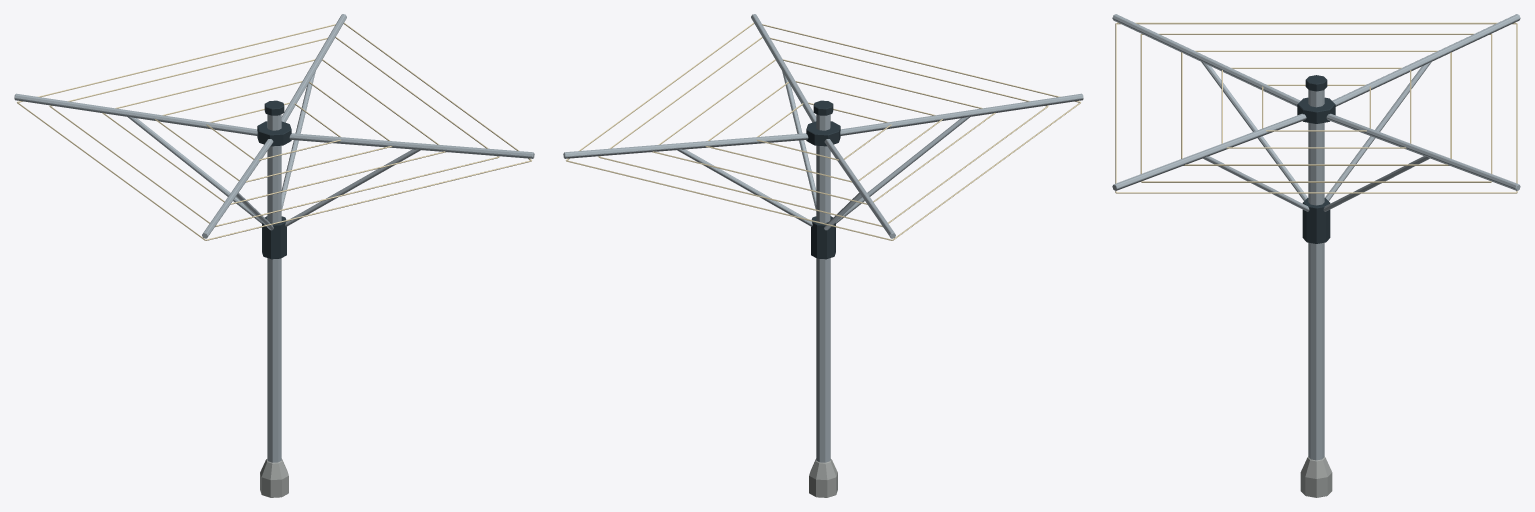
The model's file is b11_rotary_backyard_clothesline.glb.
3 views of the same model, side by side, from view 1: azimuth 30°, elevation 25°; view 2: azimuth 150°, elevation 25°; view 3: azimuth 270°, elevation 25° (orthographic). The views are drawn at different scales.
Visible parts, largest first — view 1: b11_rotary_backyard_clothesline; view 2: b11_rotary_backyard_clothesline; view 3: b11_rotary_backyard_clothesline.
Part boxes in pixels (<box>): b11_rotary_backyard_clothesline: <box>14,14,534,497</box>; b11_rotary_backyard_clothesline: <box>563,14,1083,497</box>; b11_rotary_backyard_clothesline: <box>1112,14,1520,497</box>.
Size of the model in its own units: 1.93 by 2.15 by 1.93.
